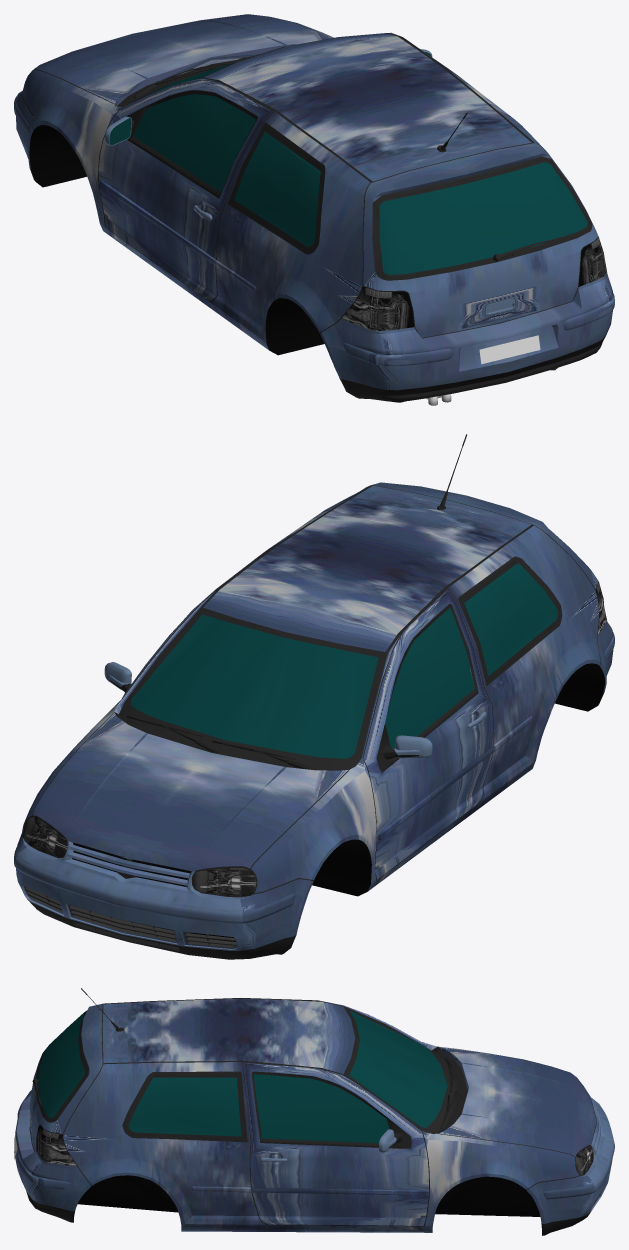
The model's file is car.fbx.
3 renders of one model, top to bottom at view 1: azimuth 30°, elevation 25°; view 2: azimuth 150°, elevation 25°; view 3: azimuth 270°, elevation 25°, orthographic. The views are drawn at different scales.
Visible parts, largest first — view 1: body_LOD0, lights; view 2: body_LOD0, lights; view 3: body_LOD0, lights.
Boxes of the visible parts, bbox=[...] form: body_LOD0: bbox=[14, 14, 614, 405]; lights: bbox=[342, 238, 606, 331]; body_LOD0: bbox=[14, 434, 614, 959]; lights: bbox=[23, 582, 606, 896]; body_LOD0: bbox=[14, 988, 614, 1235]; lights: bbox=[36, 1125, 593, 1175].
Bounding box in the file's own units: 222 × 174 × 466.
4 materials, 3 textured.
